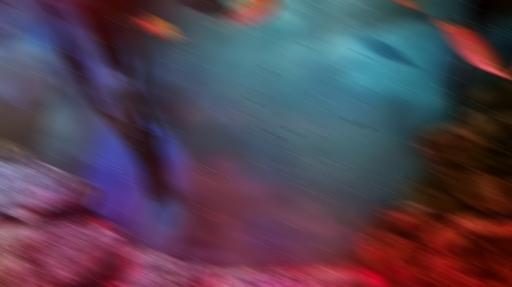Fish: (434, 18, 511, 77), (351, 35, 422, 70), (215, 0, 278, 29), (132, 13, 185, 38), (184, 0, 233, 16), (0, 13, 23, 43), (362, 245, 385, 272), (363, 270, 390, 286), (208, 270, 224, 286), (347, 268, 362, 285), (393, 0, 419, 9), (0, 0, 13, 6), (240, 0, 242, 4)
